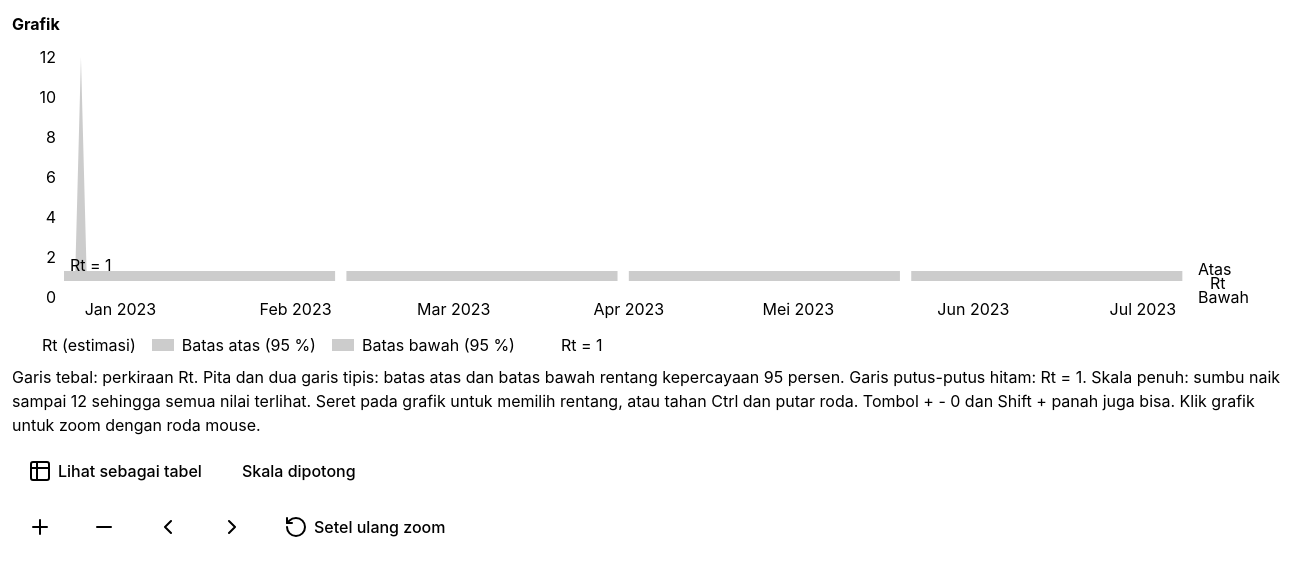
Test: RtChart bounds and scale › full scale by default; Skala dipotong clips at 4, lists the clipped value and says so
Expected: the list with test id "rt-legend" shows "Batas atas (95 %)", [182,335,316,355]
Expected: the list with test id "rt-legend" shows "Batas bawah (95 %)", [362,335,515,355]
Click the button "Skala dipotong": (299, 471) [226,449,372,493]
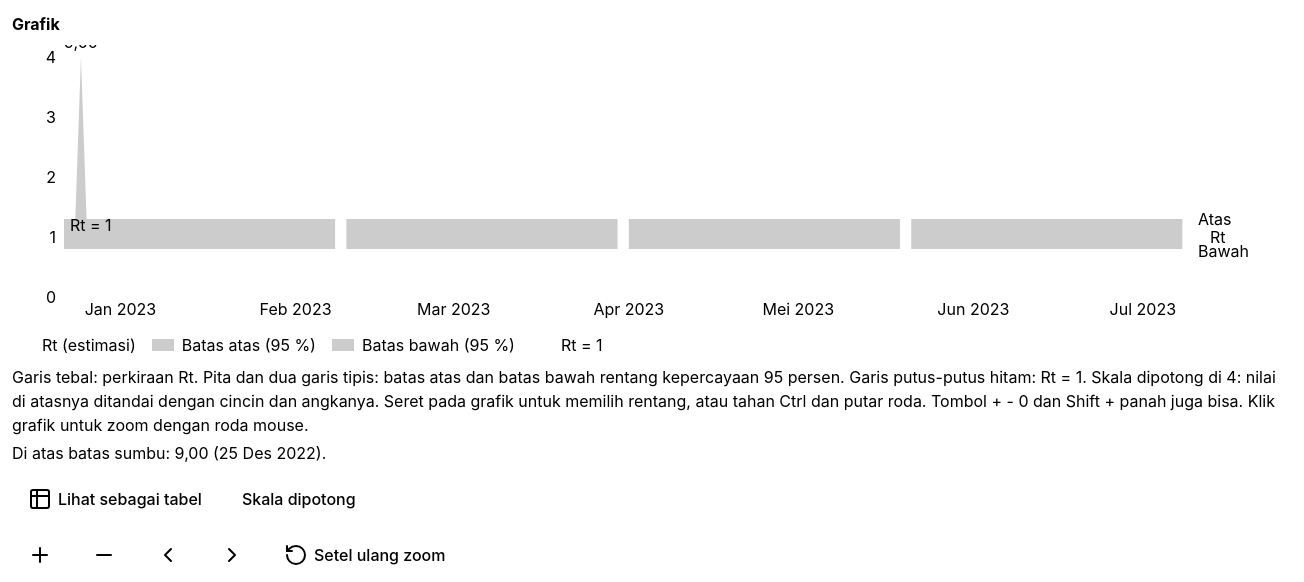
Expected: the element with test id "rt-key" shows "Seret pada grafik", [12,367,1276,411]
Now the text with test id "rt-clipped" shows "9,00", box [12,443,326,463]
Now the element with test id "rt-key" shows "Skala dipotong di 4", box [12,367,1276,411]
